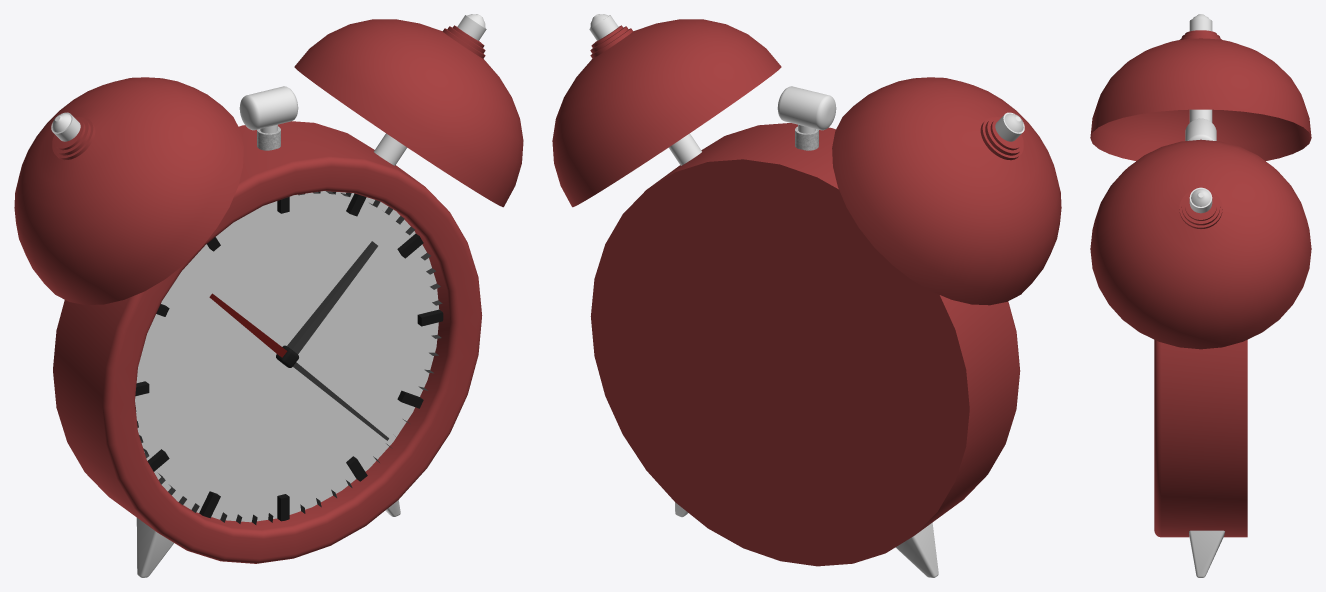
Rendered from Clock.fbx.
3 renders of one model, left to right at view 1: azimuth 30°, elevation 25°; view 2: azimuth 150°, elevation 25°; view 3: azimuth 270°, elevation 25°, orthographic. The views are drawn at different scales.
Parts seen in each view (by area): view 1: Cylinder, Sphere, Cube.003, Cylinder.004, Cylinder.002, Plane, Cube, Cube.002, Plane.001; view 2: Cylinder, Sphere, Cylinder.004, Cylinder.002, Cube; view 3: Sphere, Cylinder, Cube, Cylinder.002, Cylinder.004.
Part boxes in pixels (bbox=[...]): Cylinder: bbox=[53, 121, 482, 563]; Sphere: bbox=[14, 19, 523, 305]; Cube.003: bbox=[135, 193, 443, 521]; Cylinder.004: bbox=[239, 86, 298, 130]; Cylinder.002: bbox=[51, 14, 486, 165]; Plane: bbox=[287, 241, 377, 353]; Cube: bbox=[136, 500, 400, 577]; Cube.002: bbox=[135, 191, 442, 524]; Plane.001: bbox=[209, 293, 287, 357]; Cylinder: bbox=[590, 123, 1020, 566]; Sphere: bbox=[552, 19, 1061, 305]; Cylinder.004: bbox=[777, 86, 836, 130]; Cylinder.002: bbox=[589, 14, 1024, 165]; Cube: bbox=[675, 502, 938, 577]; Sphere: bbox=[1090, 30, 1311, 349]; Cylinder: bbox=[1154, 340, 1247, 537]; Cube: bbox=[1189, 530, 1224, 577]; Cylinder.002: bbox=[1189, 14, 1212, 213]; Cylinder.004: bbox=[1185, 118, 1216, 140].
Bounding box in the file's own units: 250 × 245 × 116.
